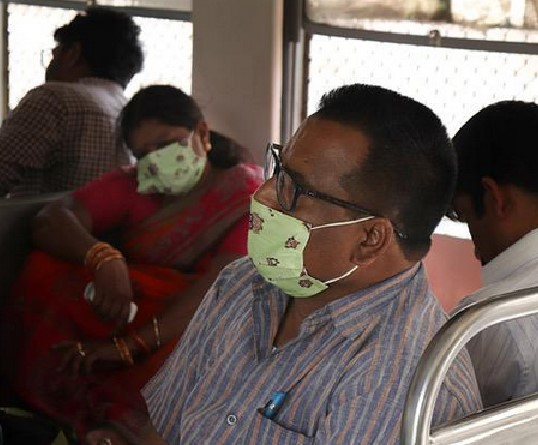face_no_mask: (450, 97, 537, 267)
face_with_mask: (244, 87, 458, 310), (119, 88, 213, 199)
